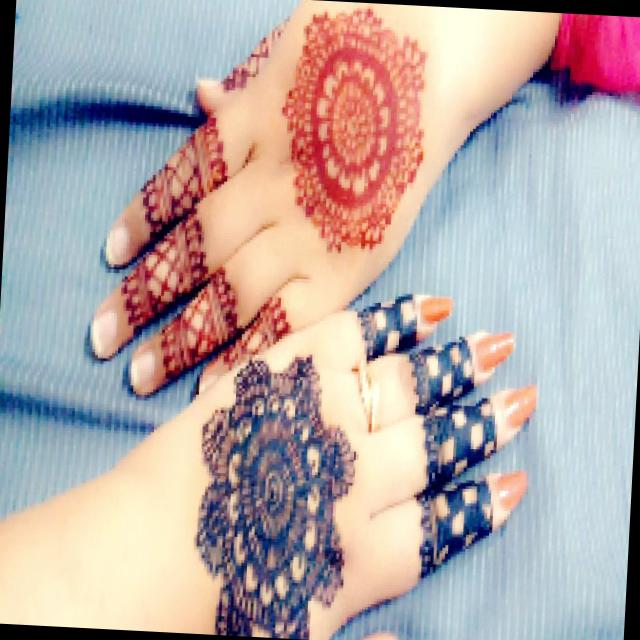Nail: (475, 331, 514, 370), (504, 385, 536, 426), (90, 309, 118, 353), (496, 471, 527, 510), (106, 225, 130, 266), (130, 351, 156, 388), (419, 296, 452, 323)
